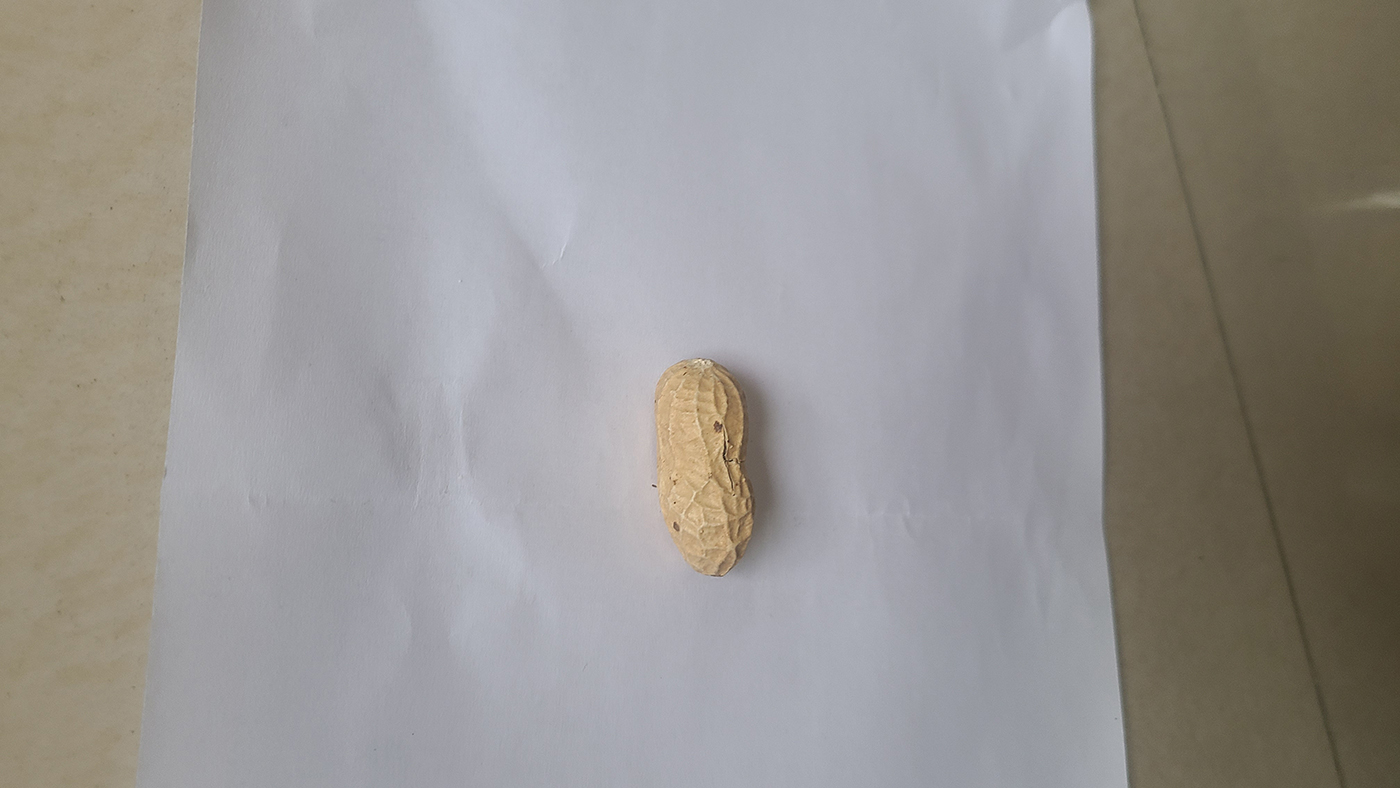h: (653, 359, 755, 578)
